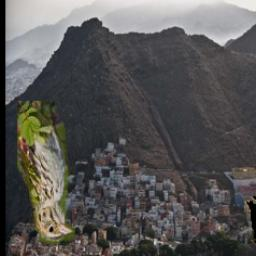Crow: (245, 197, 256, 244)
Sparrow: (17, 101, 75, 246)
